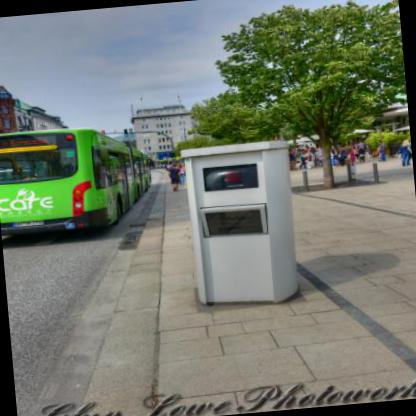bus: (0, 114, 163, 243)
